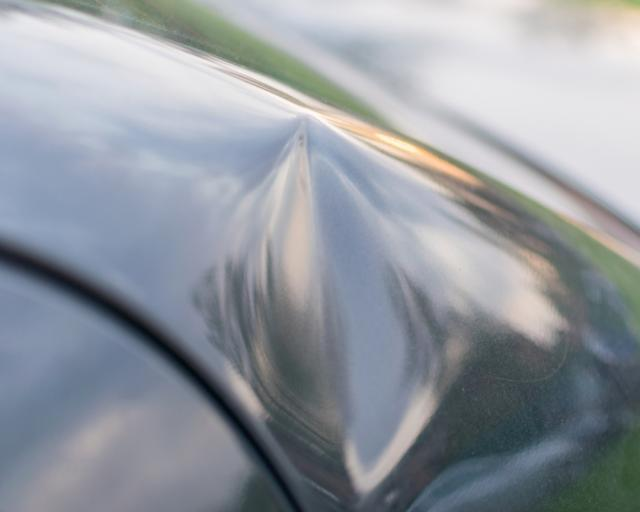dent: (222, 116, 443, 498)
